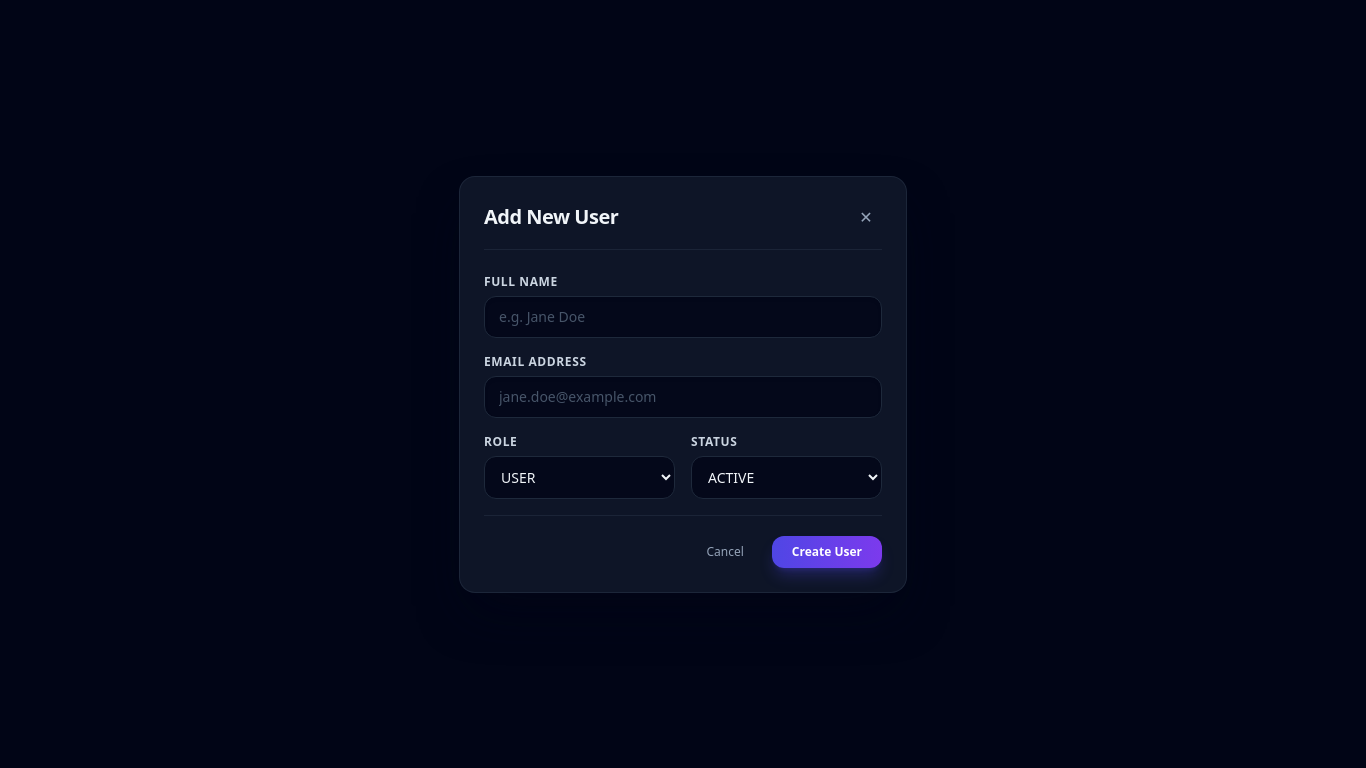
Scenario: UserFormModal › shows error message on invalid email address
The image size is (1366, 768).
Type "Valid Name" into the field with placeholder "e.g. Jane Doe". click: (683, 316)
box: left=484, top=296, right=882, bottom=338
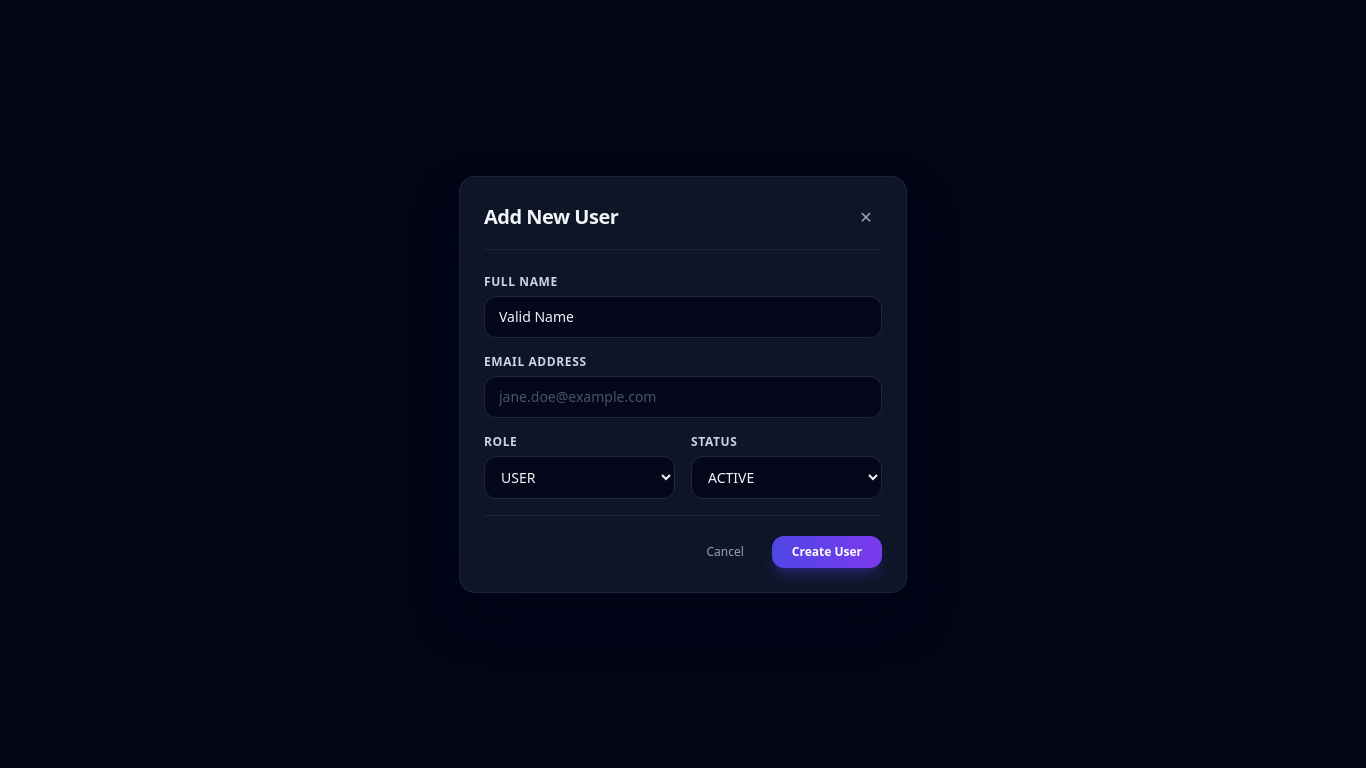
Type "invalid-email-format" into the field with placeholder "jane.doe@example.com". click: (683, 396)
box: left=484, top=376, right=882, bottom=418
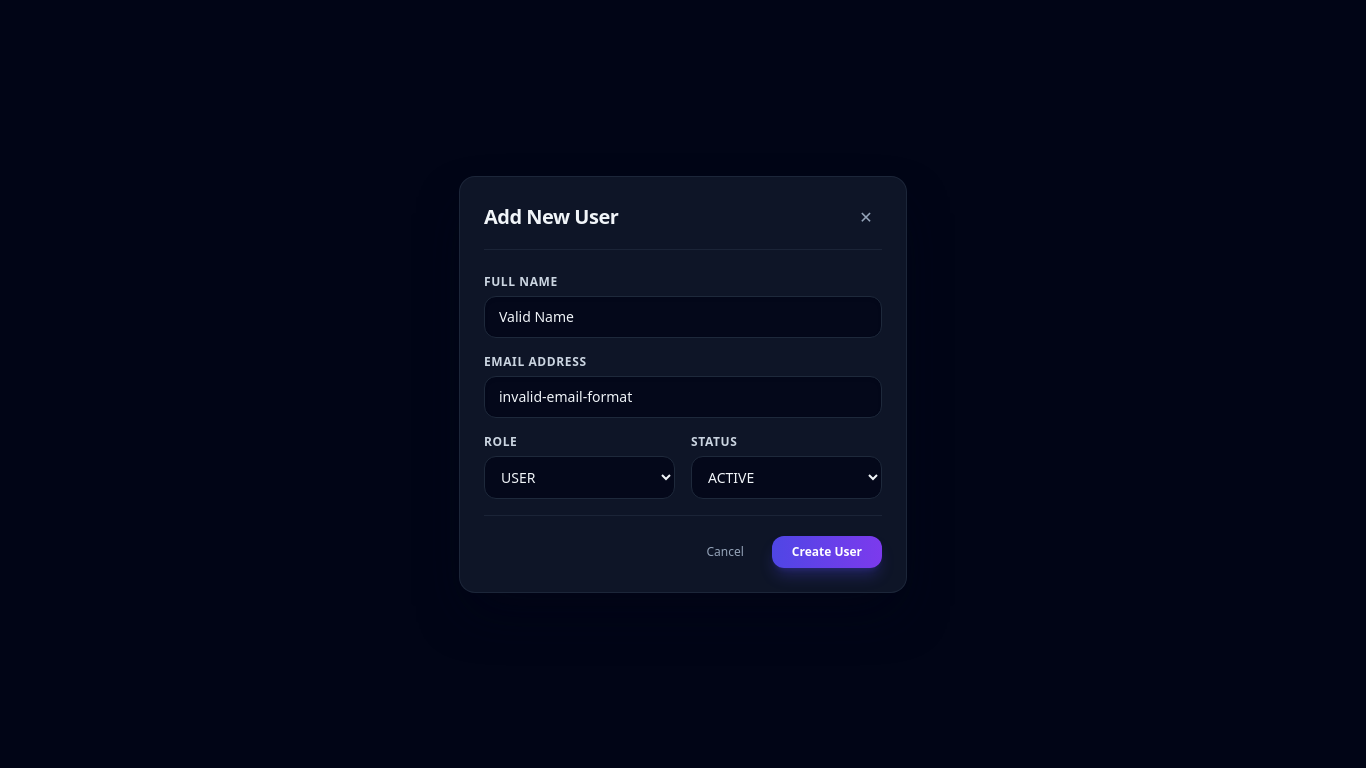
Submit the form "Full Name Email Address Role Status Cancel Create User", box left=484, top=274, right=882, bottom=568
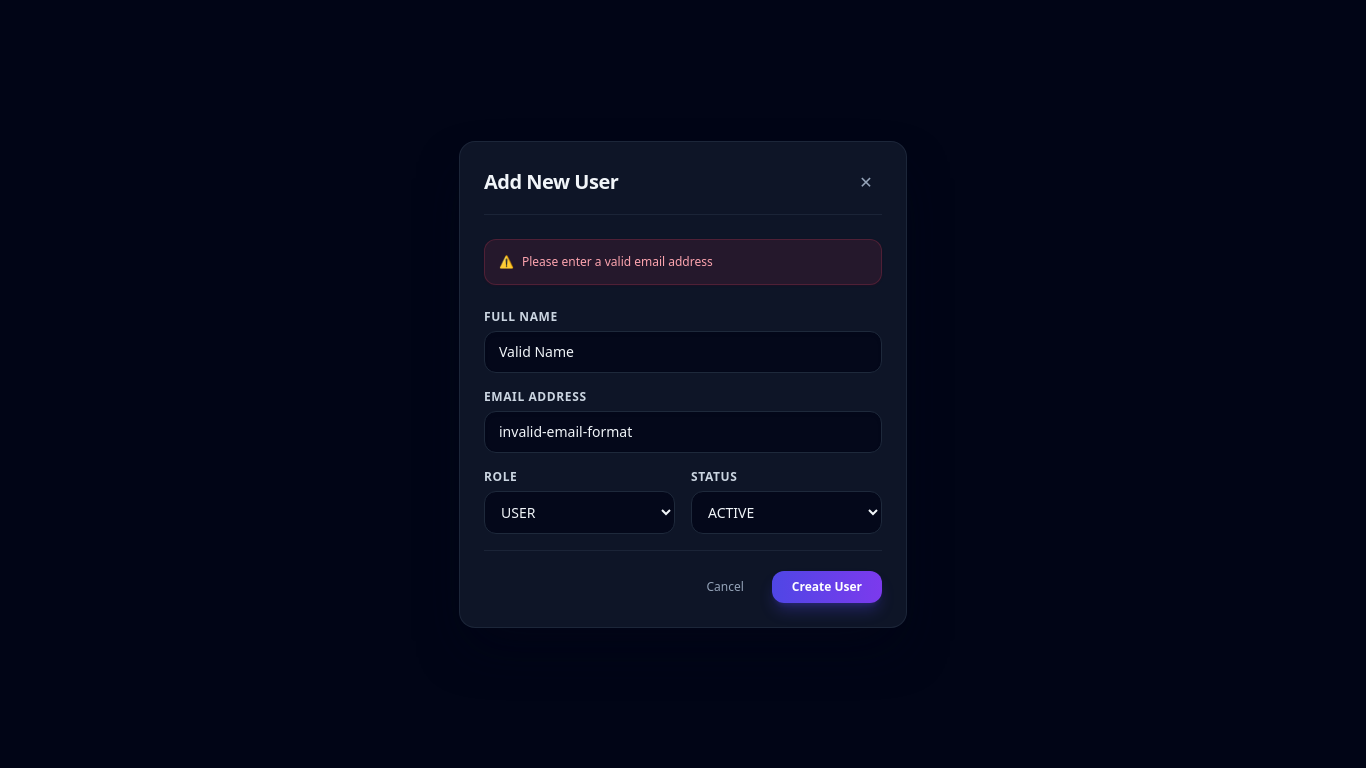
Expected: the text "Please enter a valid email address" is shown, left=522, top=254, right=713, bottom=270
